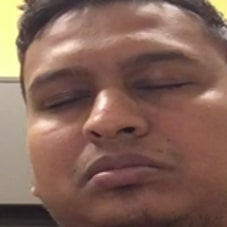drowsy: (27, 49, 210, 192)
